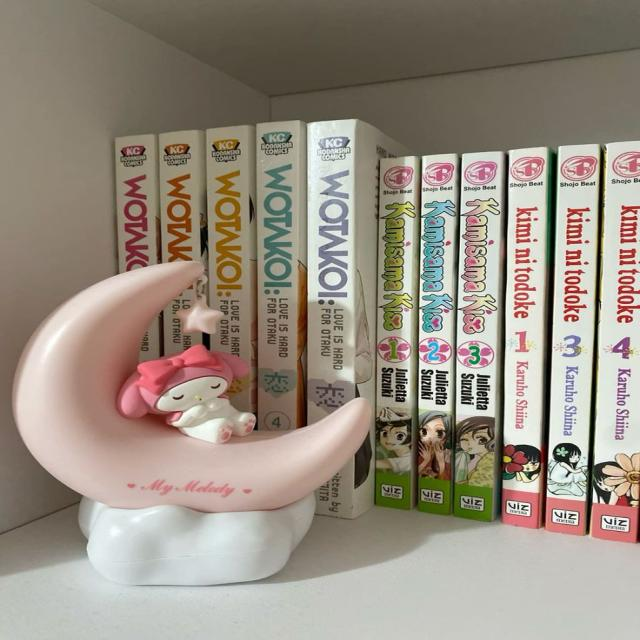book: (303, 119, 398, 518), (541, 144, 601, 535), (590, 141, 639, 543), (451, 151, 504, 520), (501, 147, 552, 528), (375, 156, 420, 509), (257, 121, 305, 431), (417, 153, 458, 515), (206, 125, 254, 411), (116, 134, 160, 270), (159, 130, 204, 262), (162, 291, 200, 355), (141, 321, 158, 359)
figurine: (13, 262, 369, 585)
